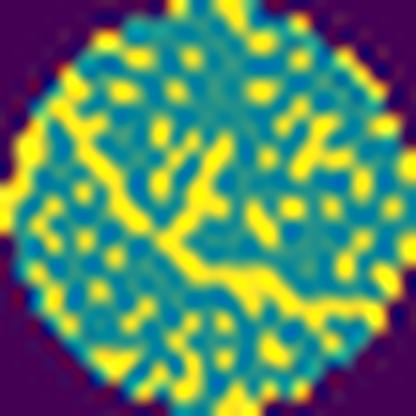Scratch: (50, 69, 387, 337)
